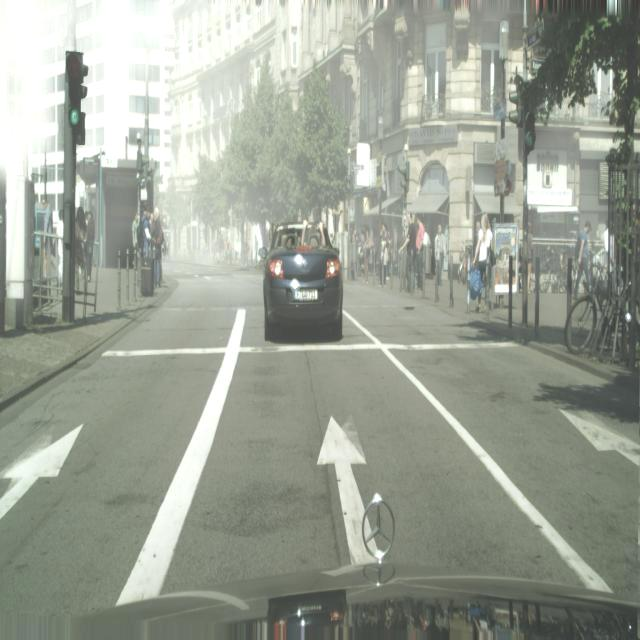car: (565, 256, 632, 364)
person: (471, 212, 492, 318), (135, 204, 155, 299), (572, 220, 593, 299), (150, 207, 165, 288), (75, 203, 87, 281), (406, 212, 417, 292), (434, 223, 447, 286), (85, 209, 95, 282), (415, 215, 424, 292), (132, 212, 139, 263)
truck: (262, 220, 344, 343)
